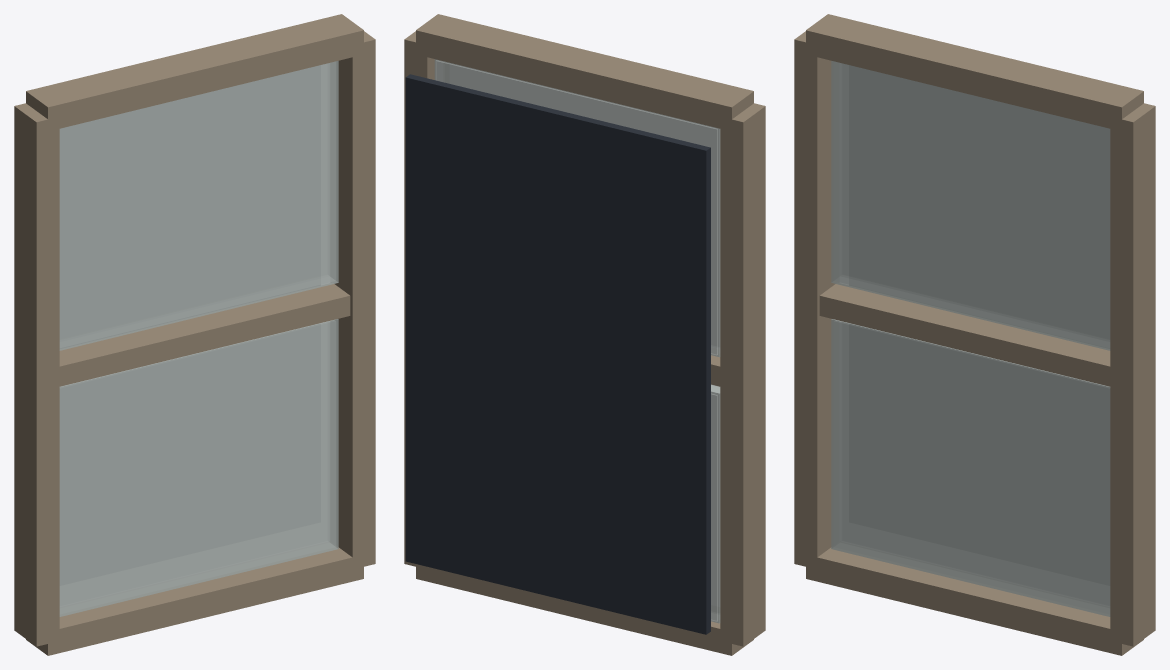
Rendered from prop_condensation_window.fbx.
The picture shows the model from 3 angles, left to right: view 1: azimuth 30°, elevation 25°; view 2: azimuth 150°, elevation 25°; view 3: azimuth 330°, elevation 25°; orthographic projection.
Parts seen in each view (by area): view 1: G_B, G_T, F_L, F_R, F_T, F_B, Div, Fog_B, Fog_T; view 2: Night, F_L, F_T, G_T, Fog_T, F_B, G_B, Fog_B, F_R; view 3: G_B, G_T, F_R, F_L, F_T, F_B, Div, Fog_B, Fog_T.
Part boxes in pixels (bbox=[...]): G_B: bbox=[59, 319, 338, 616]; G_T: bbox=[59, 61, 338, 350]; F_L: bbox=[14, 103, 59, 646]; F_R: bbox=[334, 31, 375, 569]; F_T: bbox=[26, 14, 363, 131]; F_B: bbox=[26, 547, 363, 655]; Div: bbox=[59, 284, 350, 386]; Fog_B: bbox=[60, 320, 335, 613]; Fog_T: bbox=[60, 62, 335, 347]; Night: bbox=[405, 74, 710, 634]; F_L: bbox=[720, 103, 765, 646]; F_T: bbox=[416, 14, 753, 128]; G_T: bbox=[434, 59, 720, 357]; Fog_T: bbox=[435, 60, 719, 355]; F_B: bbox=[416, 564, 753, 655]; G_B: bbox=[711, 384, 720, 623]; Fog_B: bbox=[711, 386, 719, 621]; F_R: bbox=[404, 31, 434, 566]; G_B: bbox=[831, 319, 1110, 616]; G_T: bbox=[831, 61, 1110, 350]; F_R: bbox=[1110, 103, 1155, 646]; F_L: bbox=[794, 31, 835, 569]; F_T: bbox=[806, 14, 1143, 131]; F_B: bbox=[806, 547, 1143, 655]; Div: bbox=[819, 284, 1110, 386]; Fog_B: bbox=[834, 320, 1109, 613]; Fog_T: bbox=[834, 62, 1109, 347].
Bounding box in the file's own units: 88 × 136 × 18.
